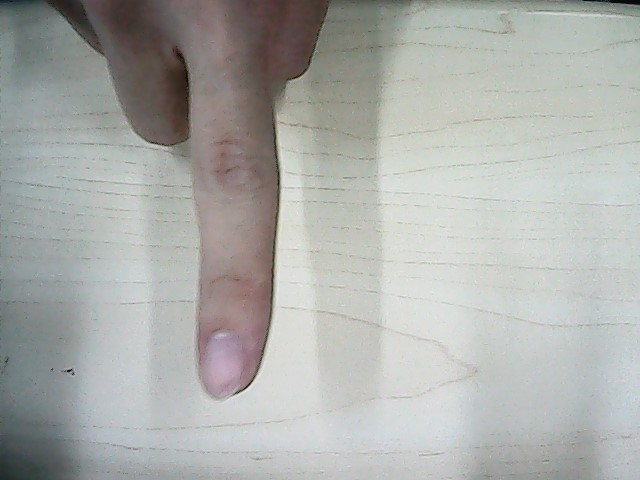nail: (199, 335, 244, 400)
